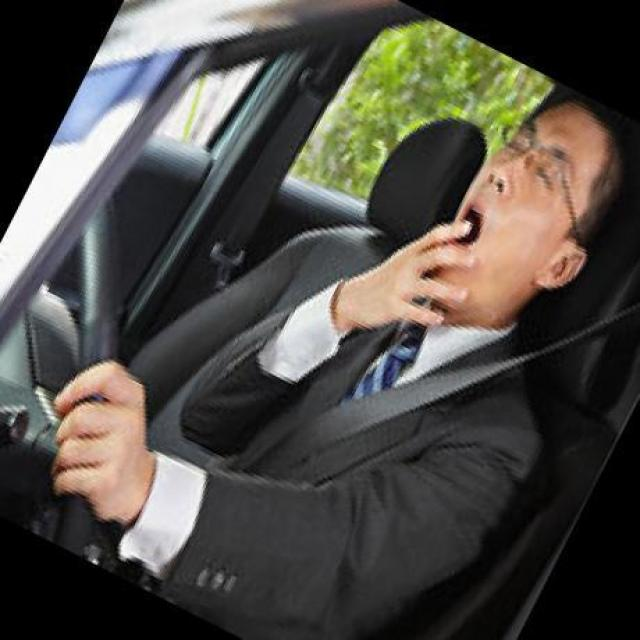no-seatbelt: (498, 115, 581, 197), (447, 197, 489, 249)
